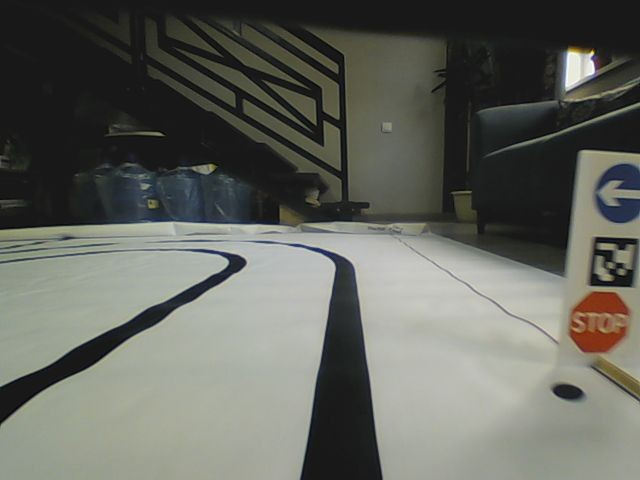Stop: (569, 292, 630, 356)
